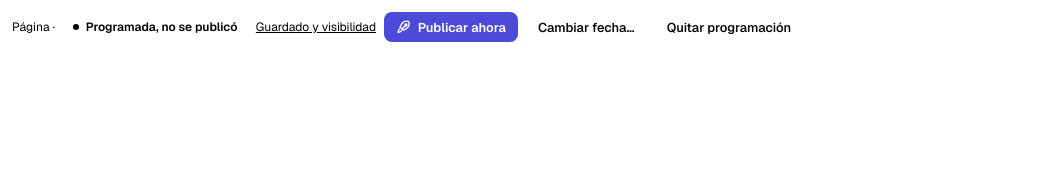
VisualPublishControl.svelte — «Programar…» › programación vencida: quitarla no publica y un error permite reintentar
Click the button "Quitar programación" at coordinates (729, 27), box [655,12,803,42]
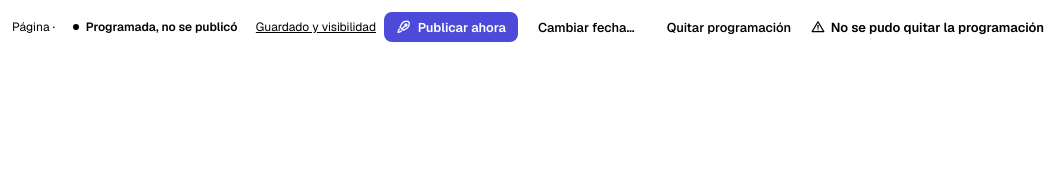
Expected: the text "Programada, no se publicó" is shown, [86,19,238,35]
Expected: the message "No se pudo quitar la programación" is shown, [811,18,1044,36]
Click the button "Quitar programación" at coordinates (729, 27), box [655,12,803,42]
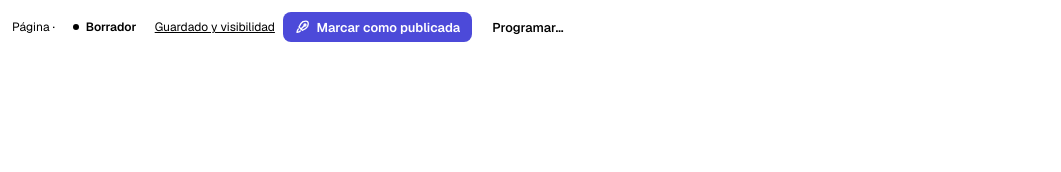
Expected: the text "Borrador" is shown, [63,15,147,39]
